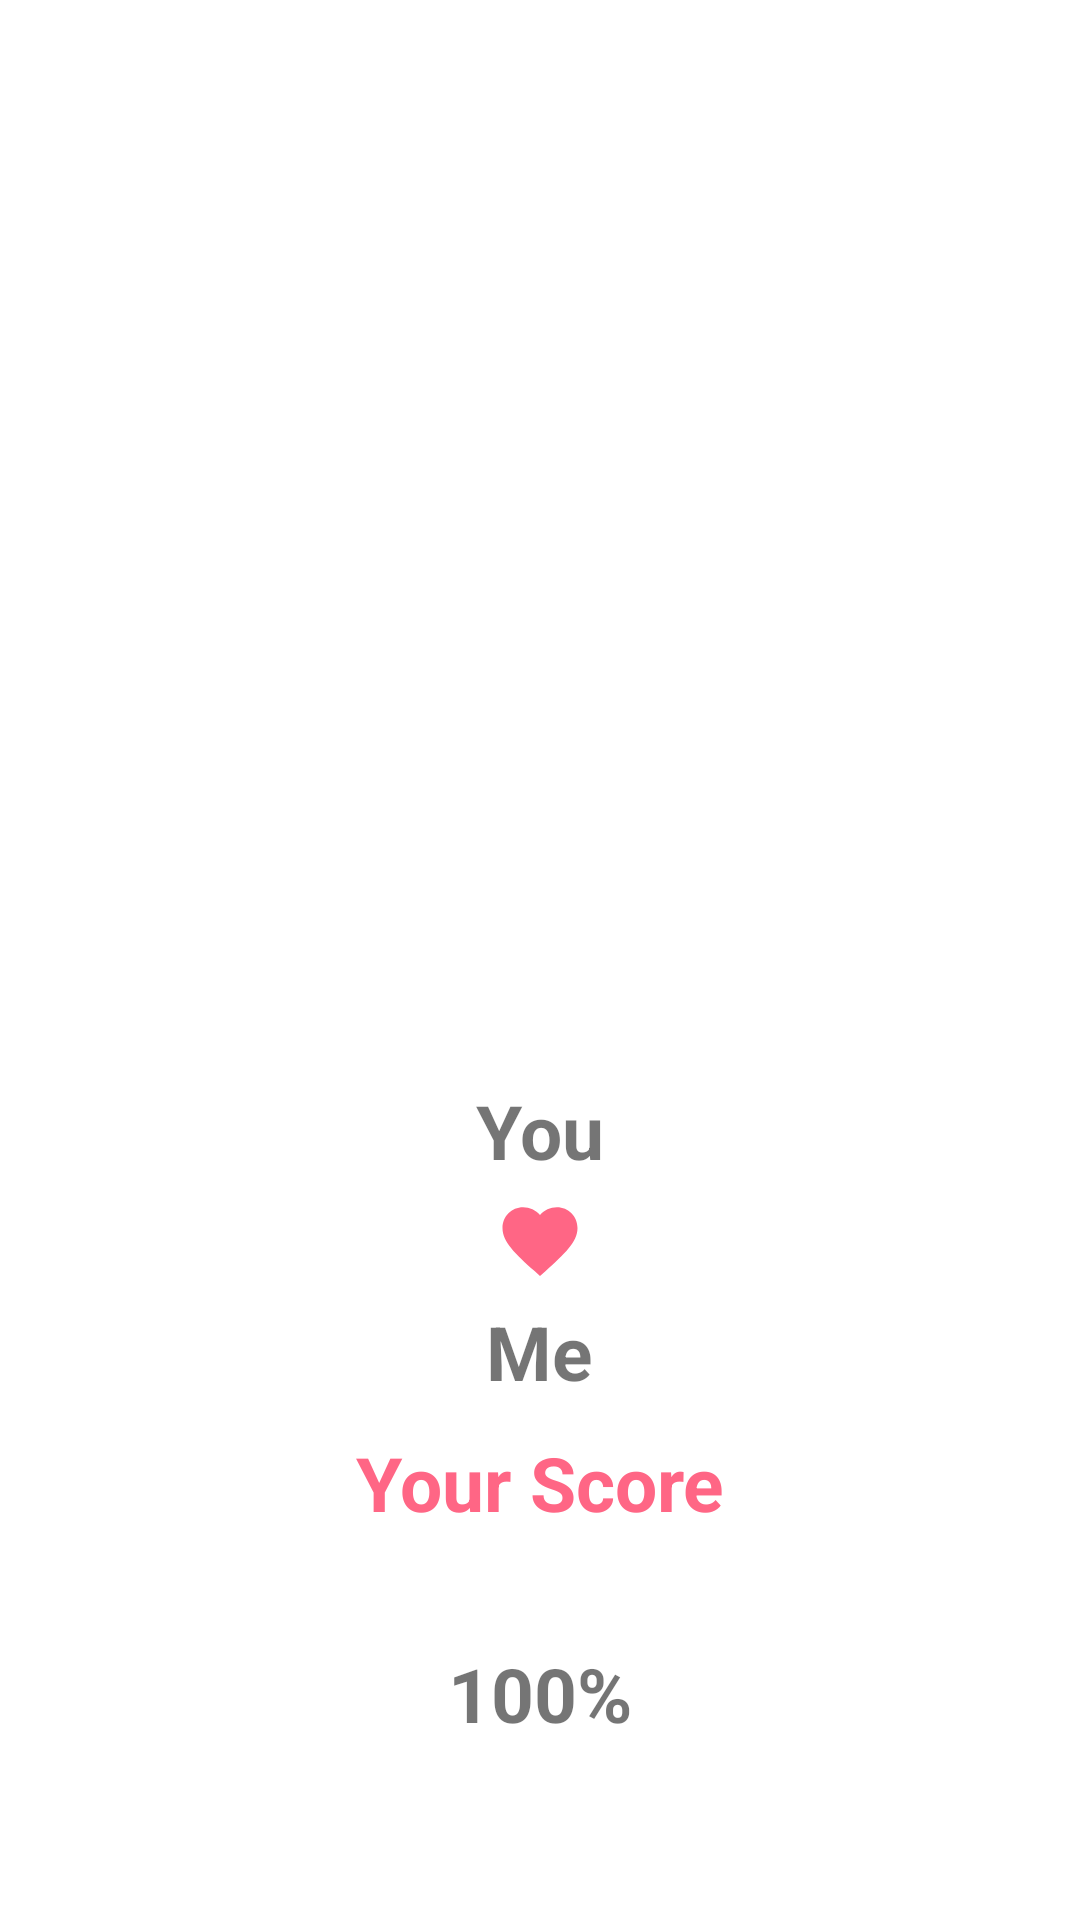

Icons on this 1080px×1920px Android screen, each with its box as bbox=(x1, y1, x2, y2):
heart: bbox=(502, 1207, 578, 1276)
